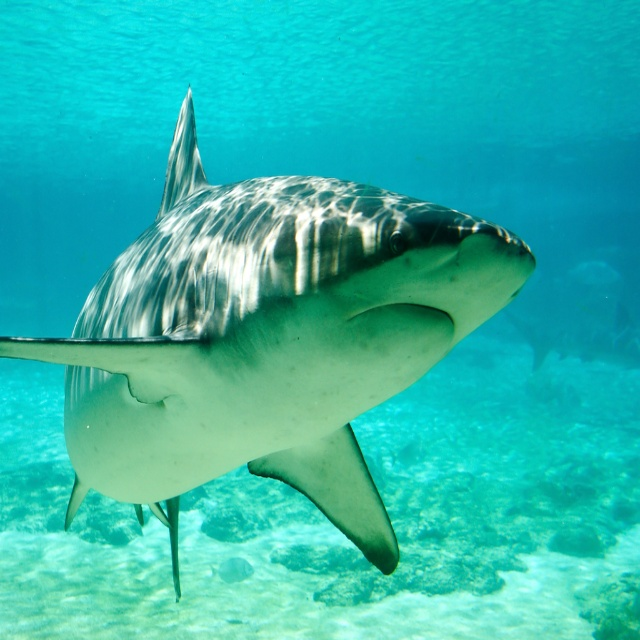Shark: (0, 83, 536, 604)
